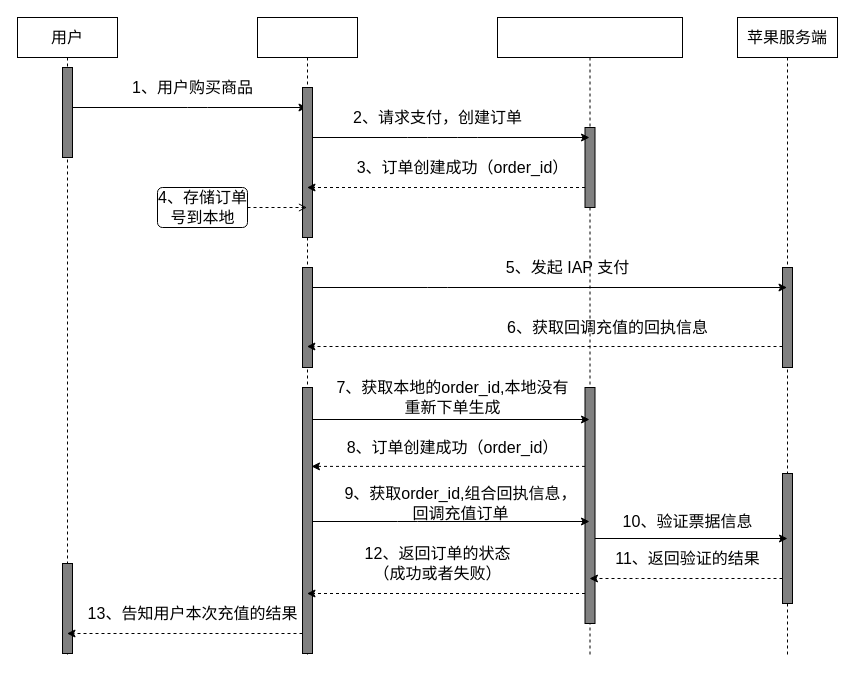
Some shapes in this 855 by 675 pixel diagram are drawn without their labels. The box of each missing label's shape, as (x1, y1, x2, y2) in pixels:
商家APP: (256, 16, 358, 658)
商家服务端: (496, 16, 682, 658)
